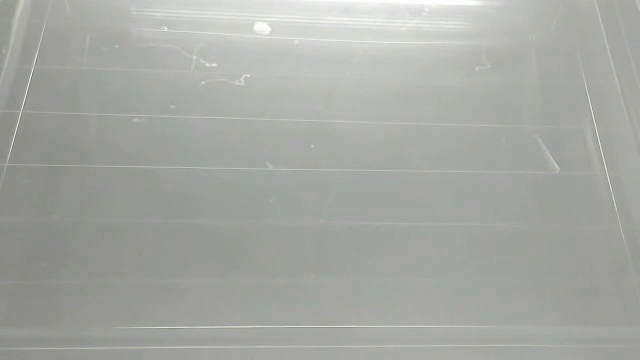alpha: (531, 131, 566, 177), (251, 18, 275, 40)
